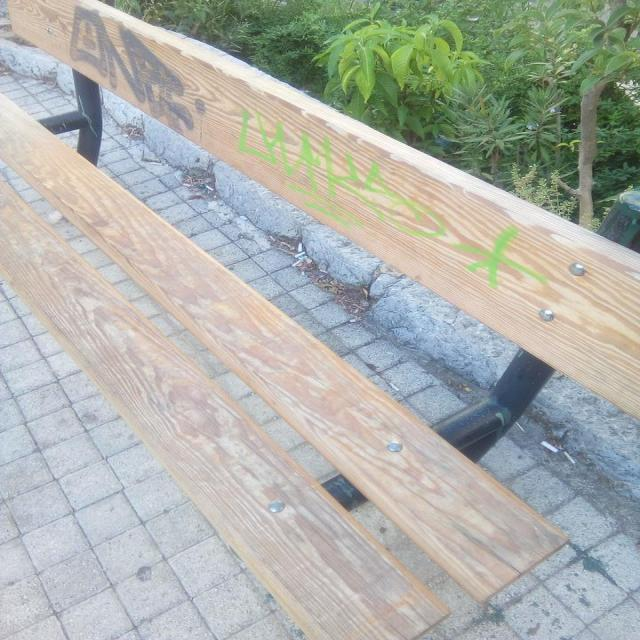nonspitting: (234, 111, 554, 294), (69, 8, 207, 131)
